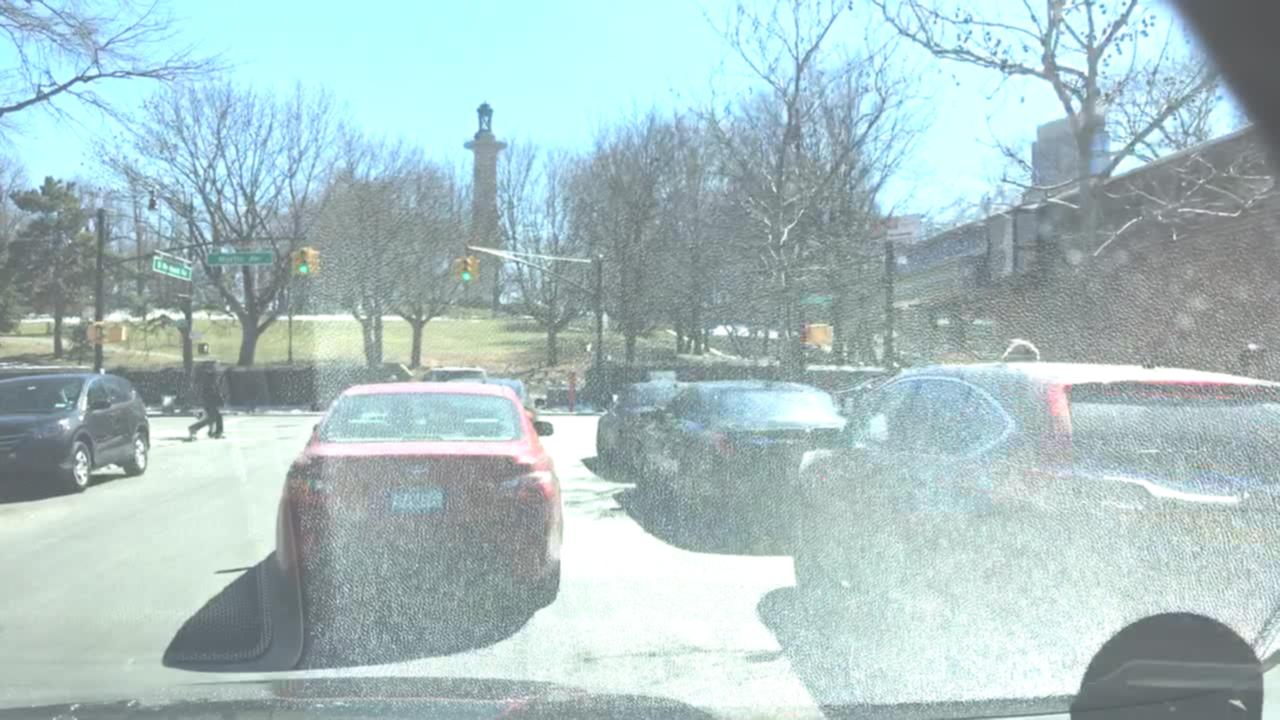Toyota: (390, 459, 438, 489)
